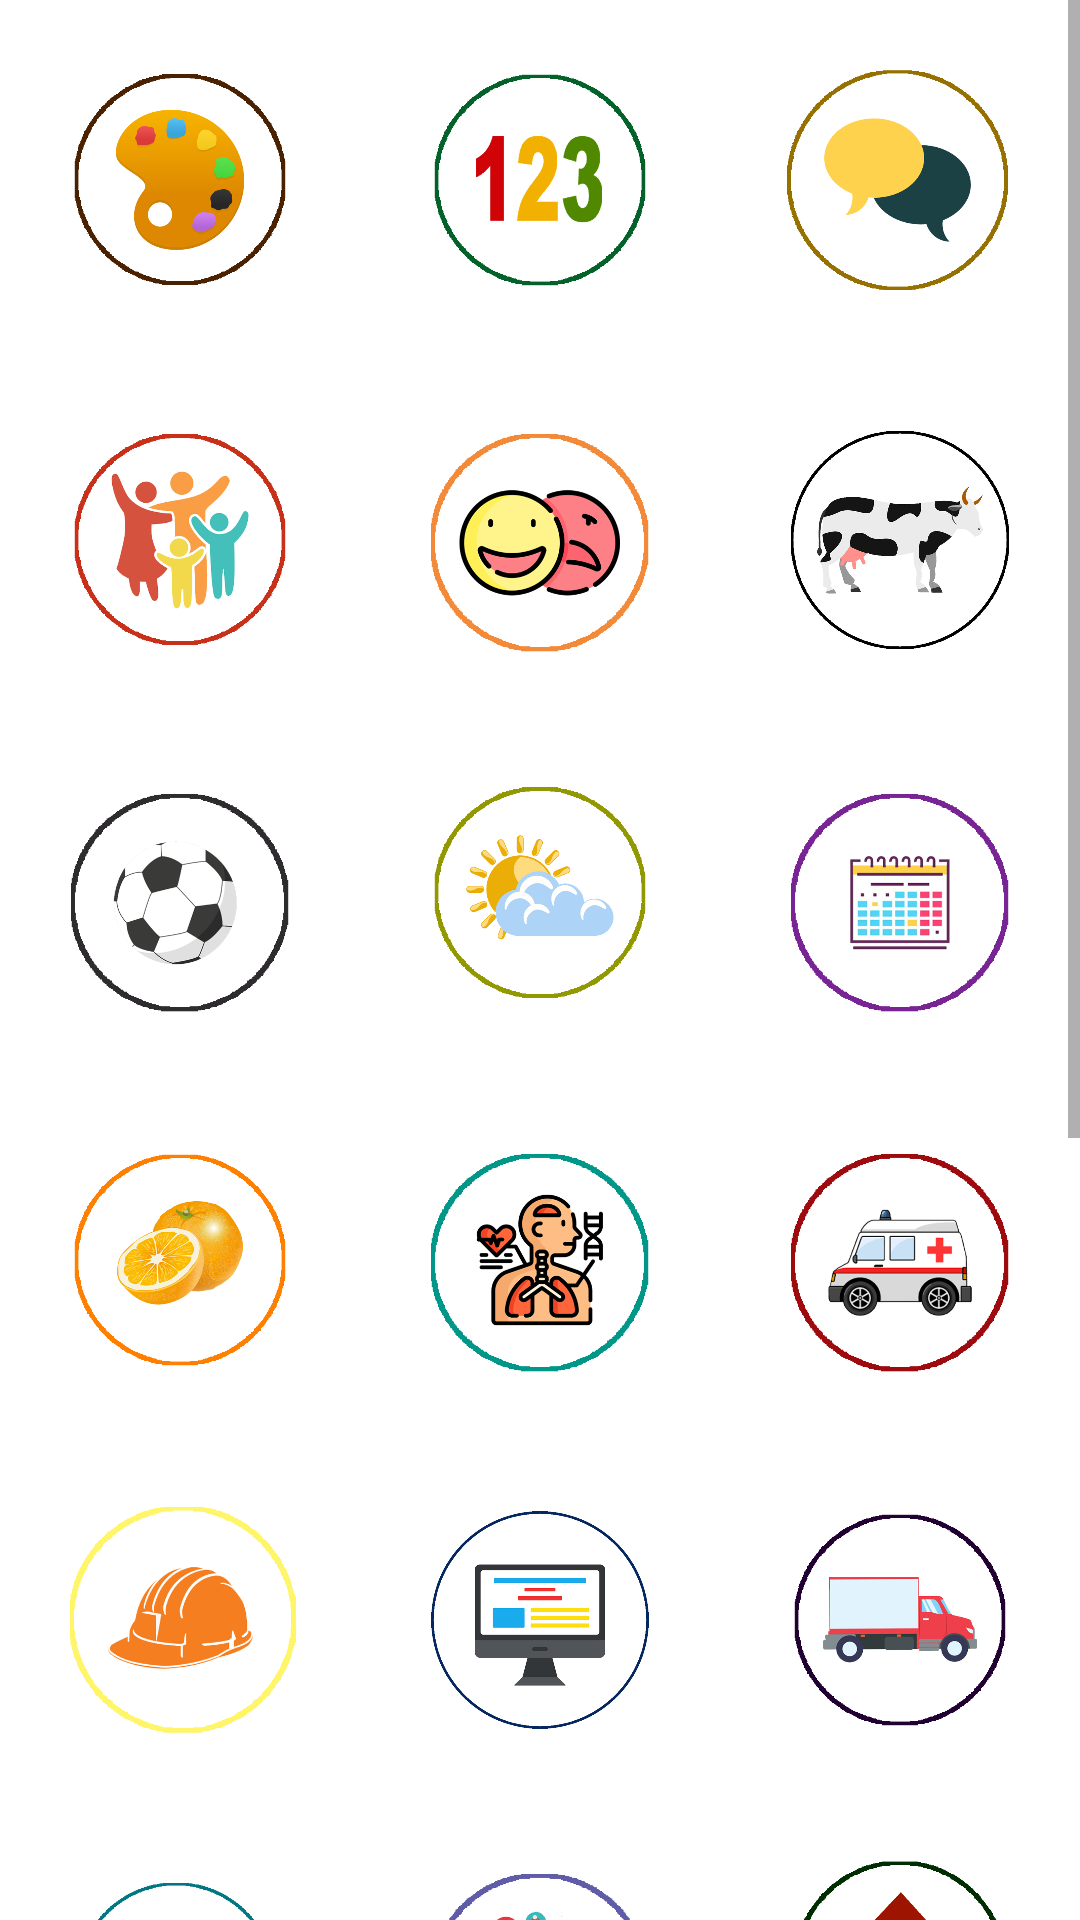

Named icons in this screenshot (1080*1920) and their centers, (x=x, y=y):
animal: (x=900, y=540)
body: (x=540, y=1263)
computer: (x=540, y=1620)
doctor: (x=900, y=1263)
emotions: (x=540, y=543)
family: (x=180, y=539)
frute: (x=180, y=1260)
job: (x=183, y=1620)
number: (x=540, y=180)
sport: (x=180, y=903)
transport: (x=900, y=1620)
weather: (x=540, y=892)
week: (x=900, y=903)
